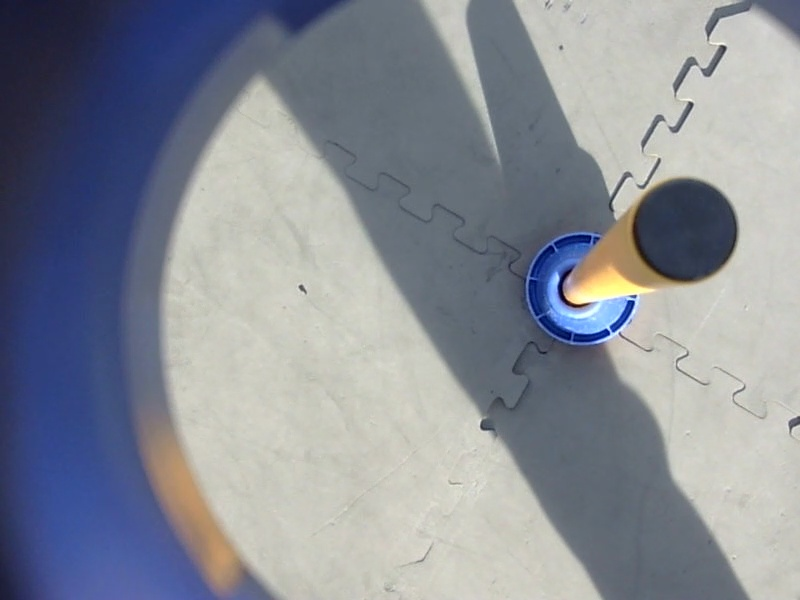tip: (625, 171, 748, 291)
